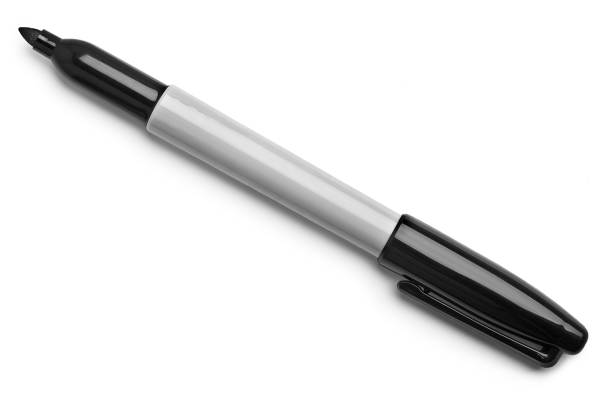pen: (15, 21, 596, 372)
